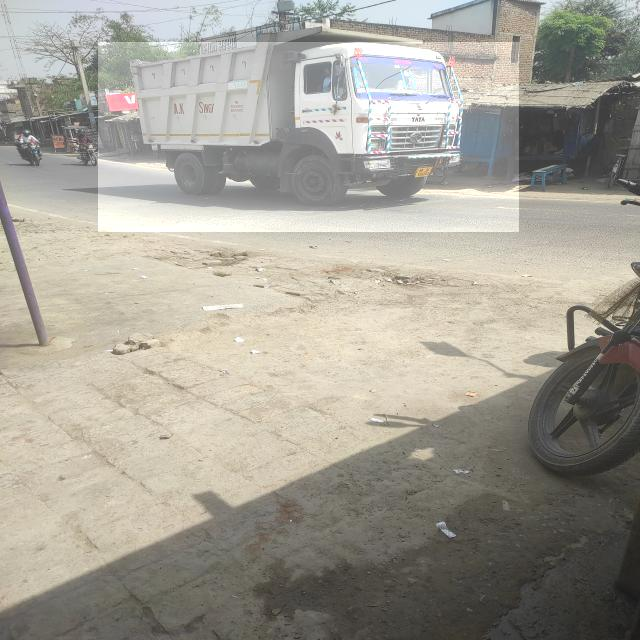Truck: (98, 42, 519, 232)
